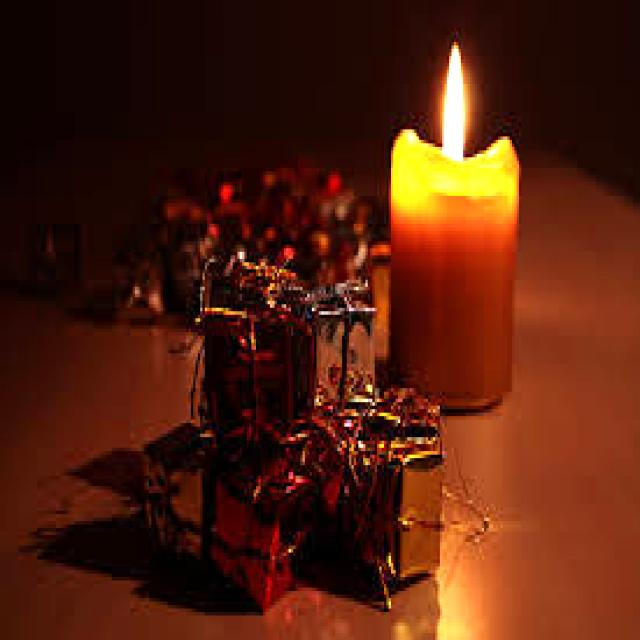helmet: (433, 39, 471, 172)
